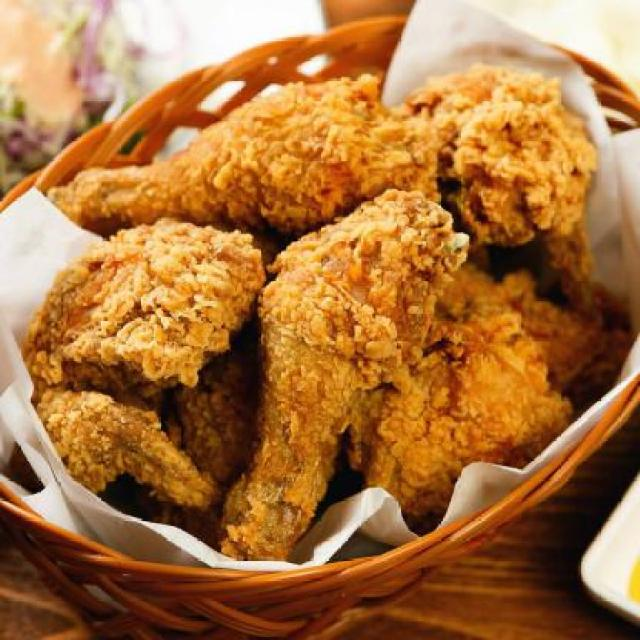Chicken -Fried Chicken-: (223, 190, 472, 558), (28, 226, 269, 529), (354, 246, 572, 525), (54, 80, 380, 232), (331, 62, 597, 238)
